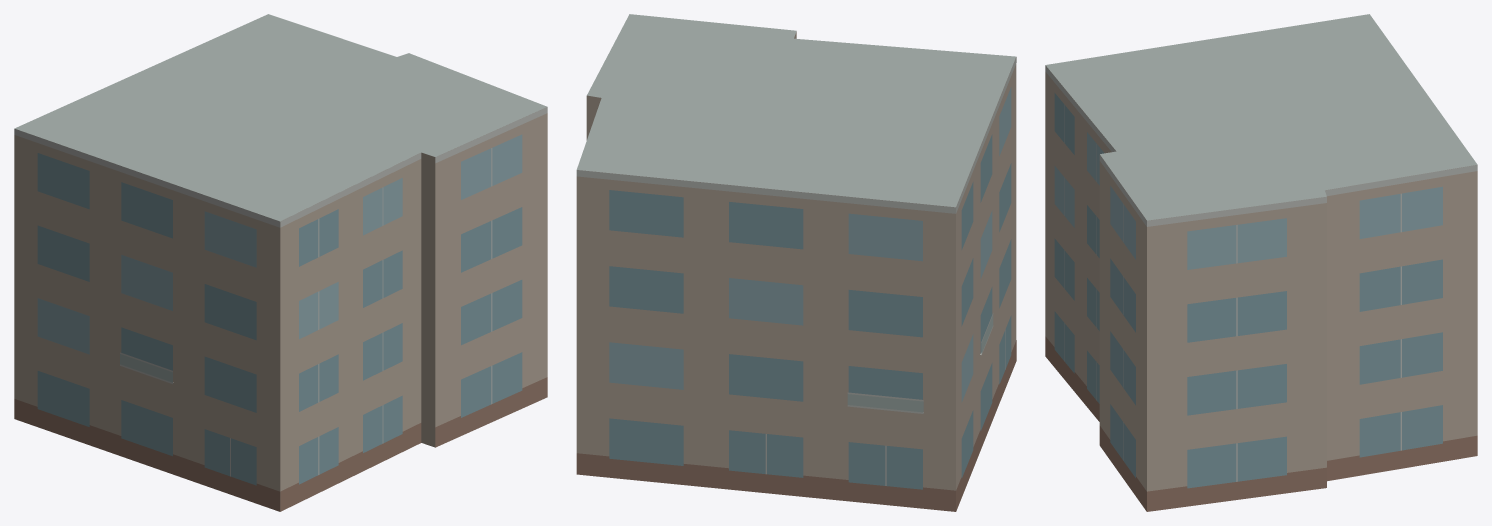
File: survey-upis-32962154.glb
3 views of the same model, side by side, from view 1: azimuth 30°, elevation 25°; view 2: azimuth 150°, elevation 25°; view 3: azimuth 270°, elevation 25° (orthographic). The views are drawn at different scales.
Visible parts, largest first — view 1: survey-upis-32962154.tmp; view 2: survey-upis-32962154.tmp; view 3: survey-upis-32962154.tmp.
Boxes of the visible parts, x1,y1,x2,y2 form: survey-upis-32962154.tmp: [14, 14, 547, 511]; survey-upis-32962154.tmp: [576, 14, 1016, 511]; survey-upis-32962154.tmp: [1045, 14, 1477, 511].
Bounding box in the file's own units: 17.21 × 11.3 × 15.21.
